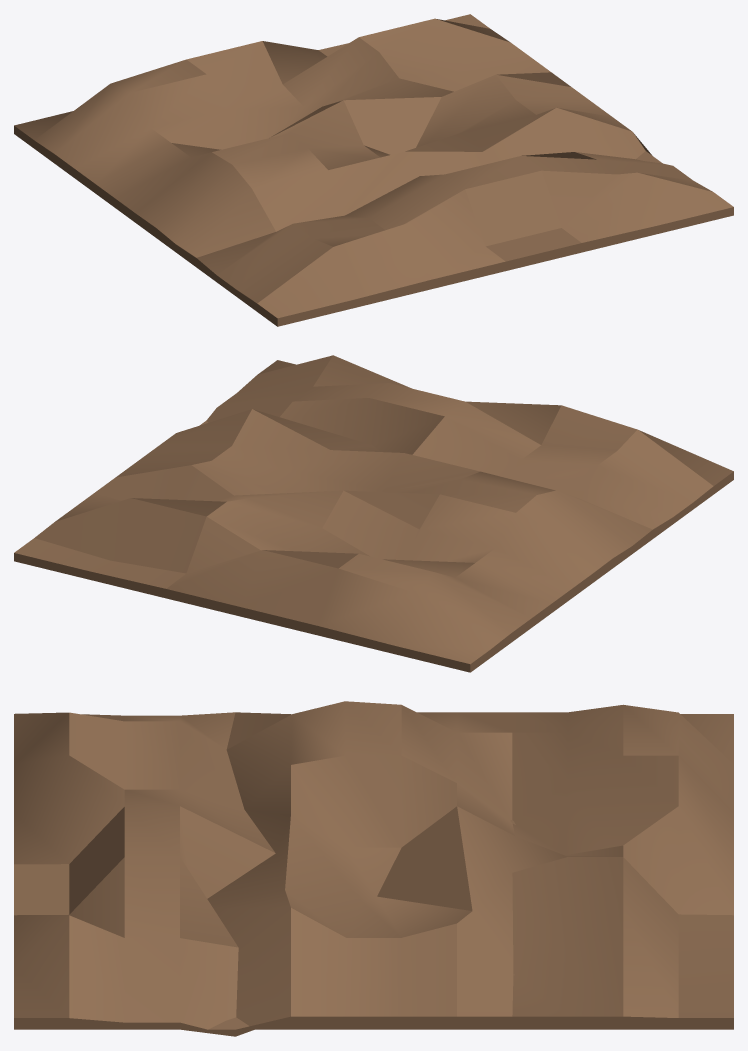
The model's file is DrySoil2.fbx.
The picture shows the model from 3 angles, top to bottom: view 1: azimuth 30°, elevation 25°; view 2: azimuth 150°, elevation 25°; view 3: azimuth 270°, elevation 25°; orthographic projection. The views are drawn at different scales.
Visible parts, largest first — view 1: Cube.010; view 2: Cube.010; view 3: Cube.010.
Part boxes in pixels (x1,y1,x2,y2): Cube.010: (14, 14, 733, 326); Cube.010: (14, 355, 733, 672); Cube.010: (14, 701, 733, 1036).
Size of the model in its own units: 44.94 by 5.64 by 44.94.
